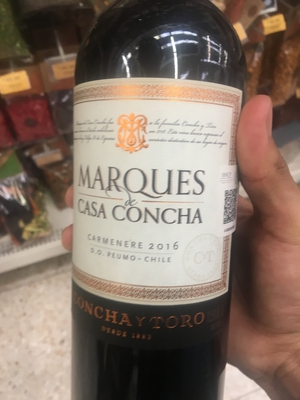marques de casa concha carmenere: (64, 5, 247, 400)
